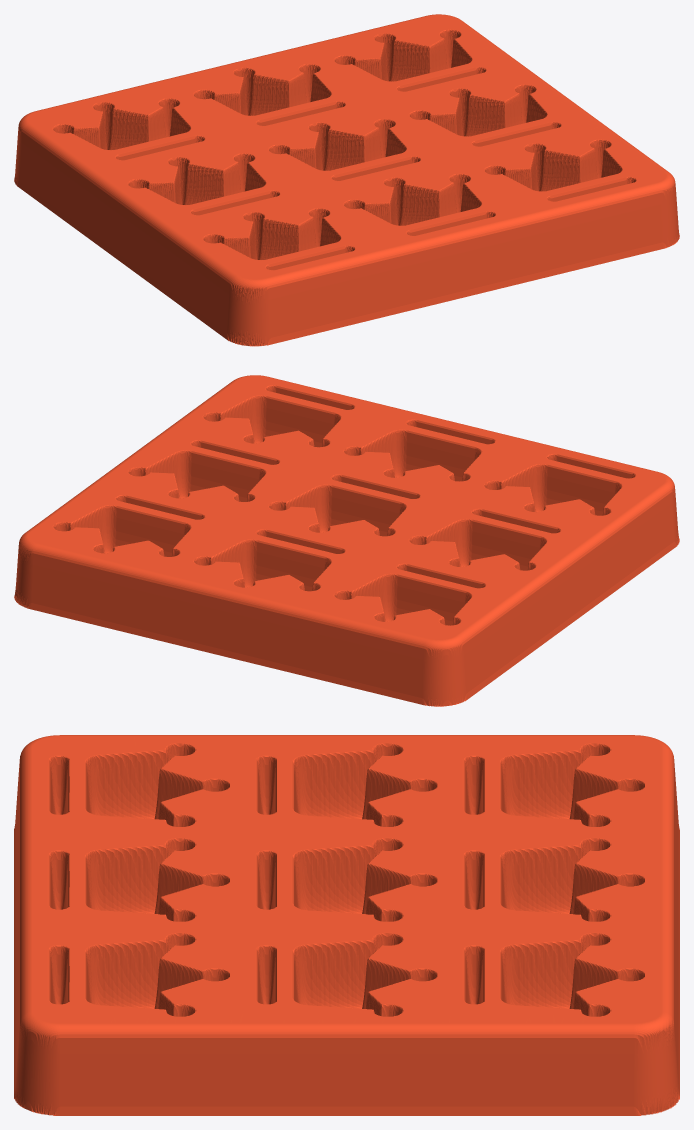
File: mold.glb
The picture shows the model from 3 angles, top to bottom: view 1: azimuth 30°, elevation 25°; view 2: azimuth 150°, elevation 25°; view 3: azimuth 270°, elevation 25°; orthographic projection. The views are drawn at different scales.
Parts seen in each view (by area): view 1: geometry_0; view 2: geometry_0; view 3: geometry_0.
Boxes of the visible parts, x1=… form: geometry_0: x1=14, y1=14, x2=679, y2=346; geometry_0: x1=14, y1=375, x2=679, y2=706; geometry_0: x1=14, y1=735, x2=679, y2=1115.
Bounding box in the file's own units: 0.1402 × 0.0182 × 0.1303.
